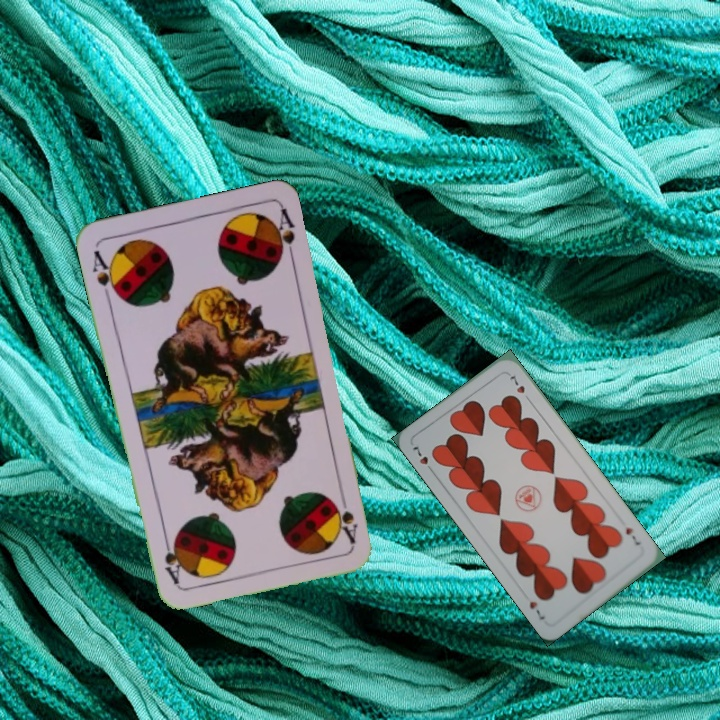H7: (408, 441, 437, 476), (621, 523, 643, 548)
SA: (88, 246, 122, 303), (330, 487, 360, 546)
